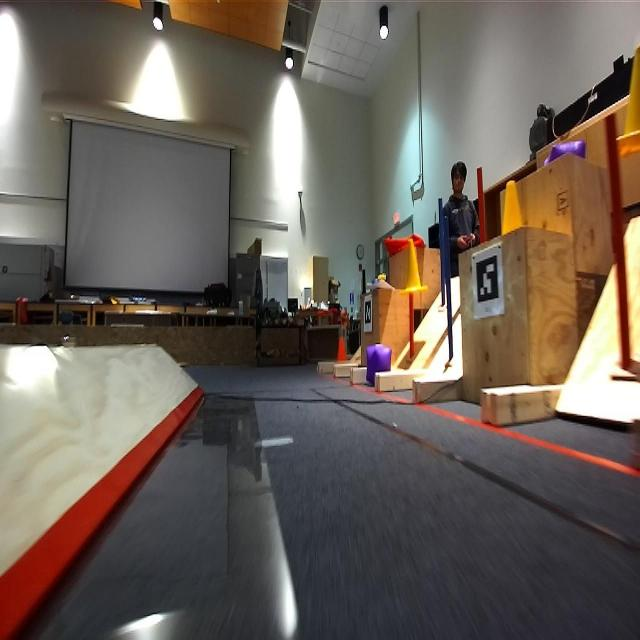frc_cone: (615, 44, 640, 164), (496, 174, 525, 239), (398, 238, 429, 294)
frc_cube: (363, 343, 393, 389), (546, 140, 586, 166)
